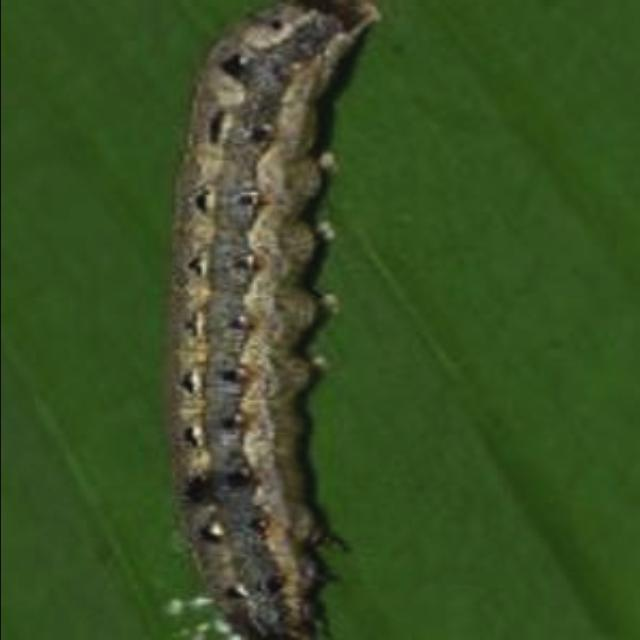Tobacco cutworm: (116, 1, 442, 636)
